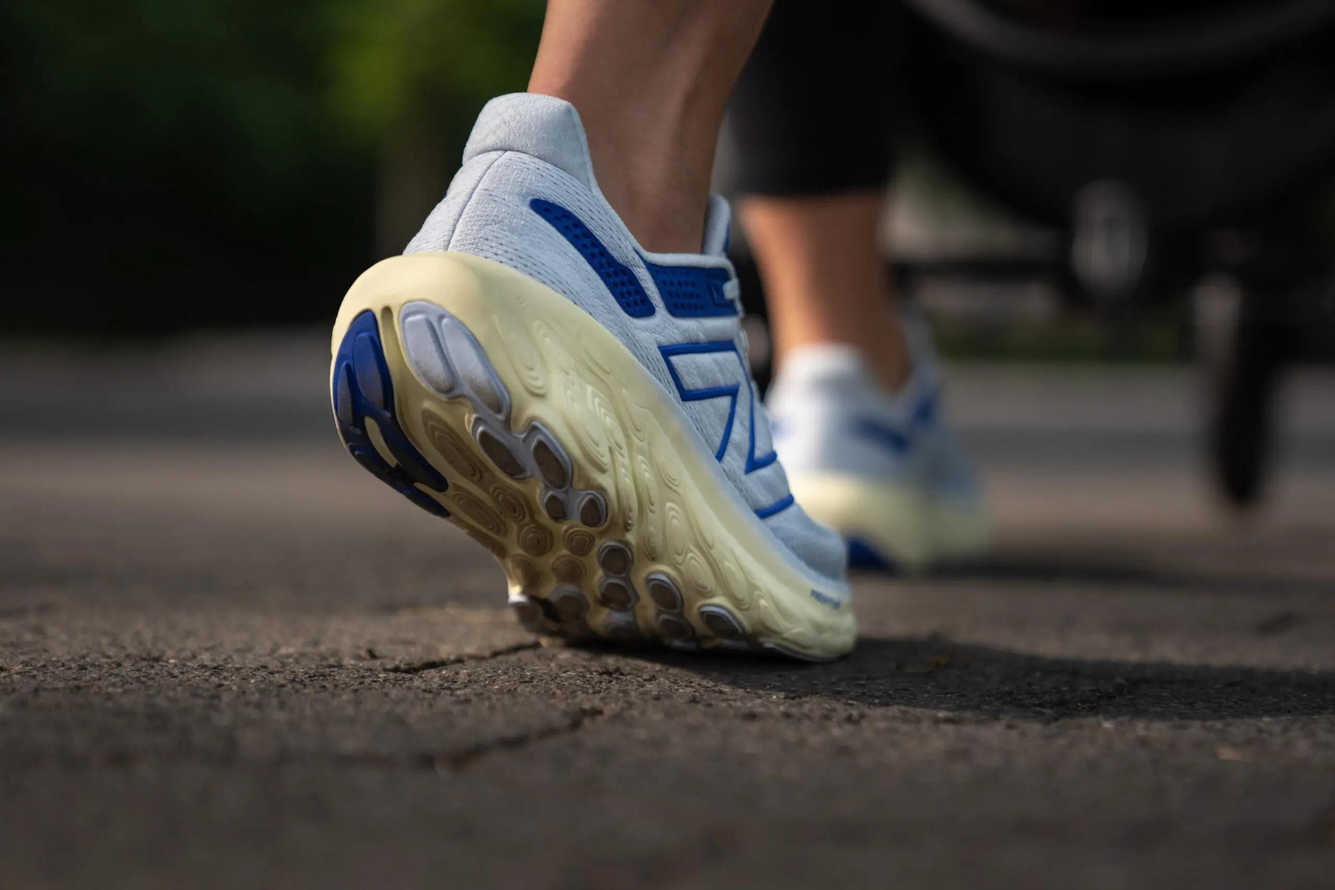NB logo: (654, 325, 794, 530)
